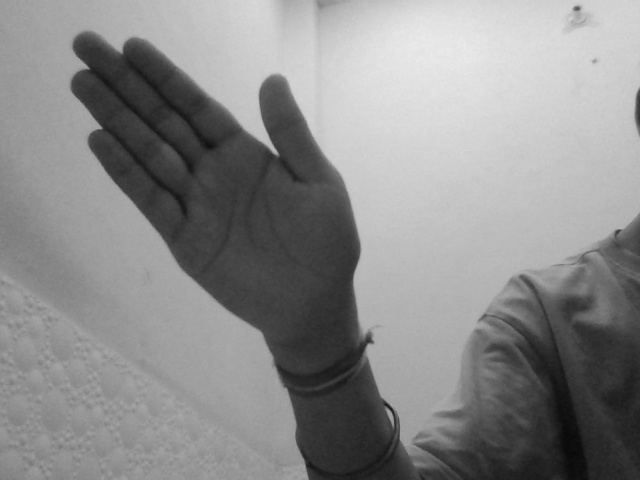Hello: (67, 30, 368, 340)
